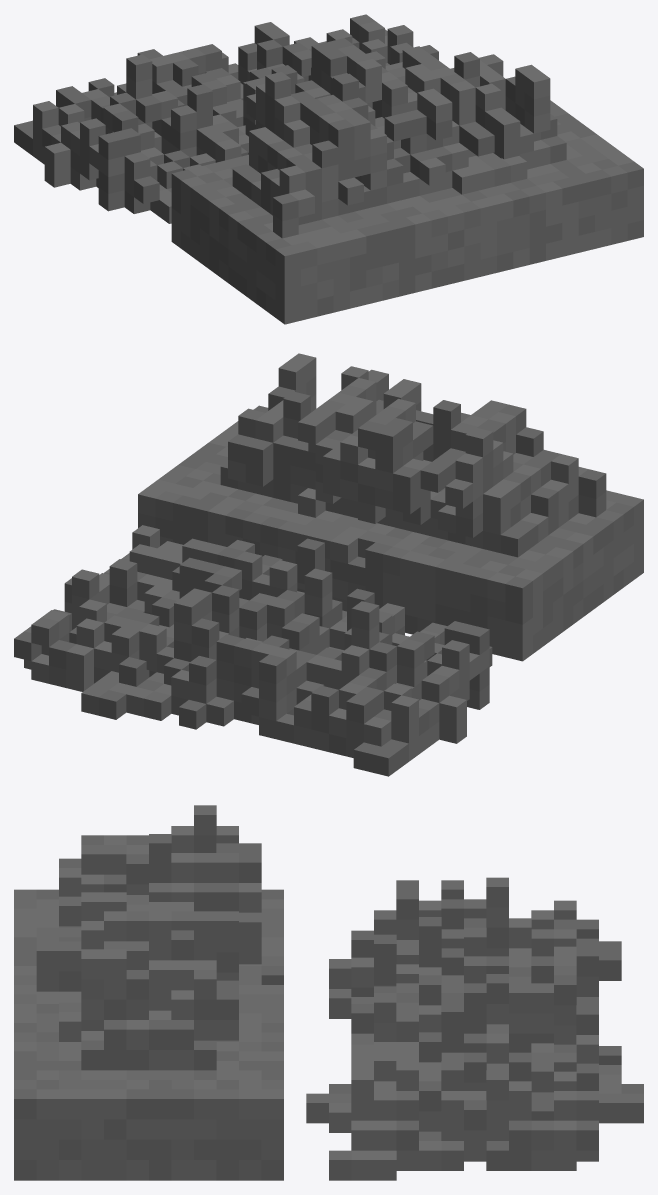
Rendered from Tombstones-3-BrokenSarcoph3.obj.
The picture shows the model from 3 angles, top to bottom: view 1: azimuth 30°, elevation 25°; view 2: azimuth 150°, elevation 25°; view 3: azimuth 270°, elevation 25°; orthographic projection. The views are drawn at different scales.
Parts seen in each view (by area): view 1: BrokenSarcoph3; view 2: BrokenSarcoph3; view 3: BrokenSarcoph3.
Boxes of the visible parts, x1,y1,x2,y2 form: BrokenSarcoph3: (14, 14, 643, 324); BrokenSarcoph3: (14, 353, 643, 776); BrokenSarcoph3: (14, 805, 643, 1180).
Bounding box in the file's own units: 2.4 × 1 × 2.8.
1 material, 1 textured.
